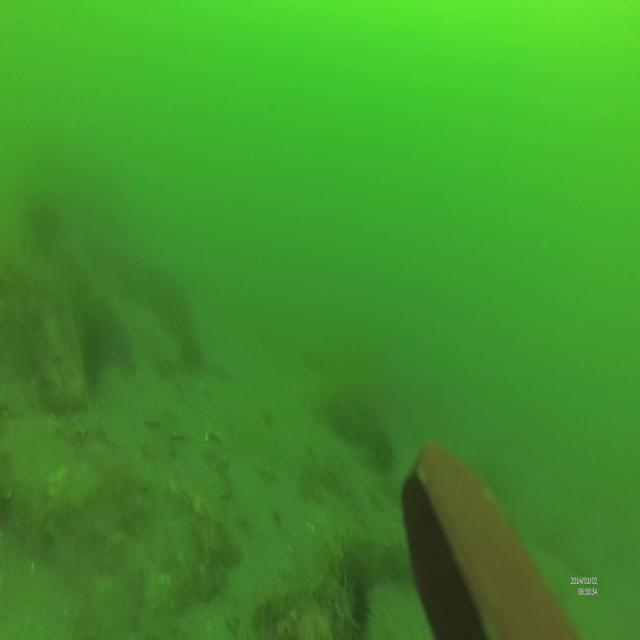echinus: (348, 575, 372, 640)
